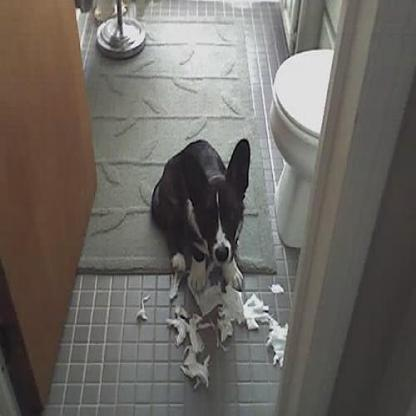Cardigan: (150, 136, 251, 291)
